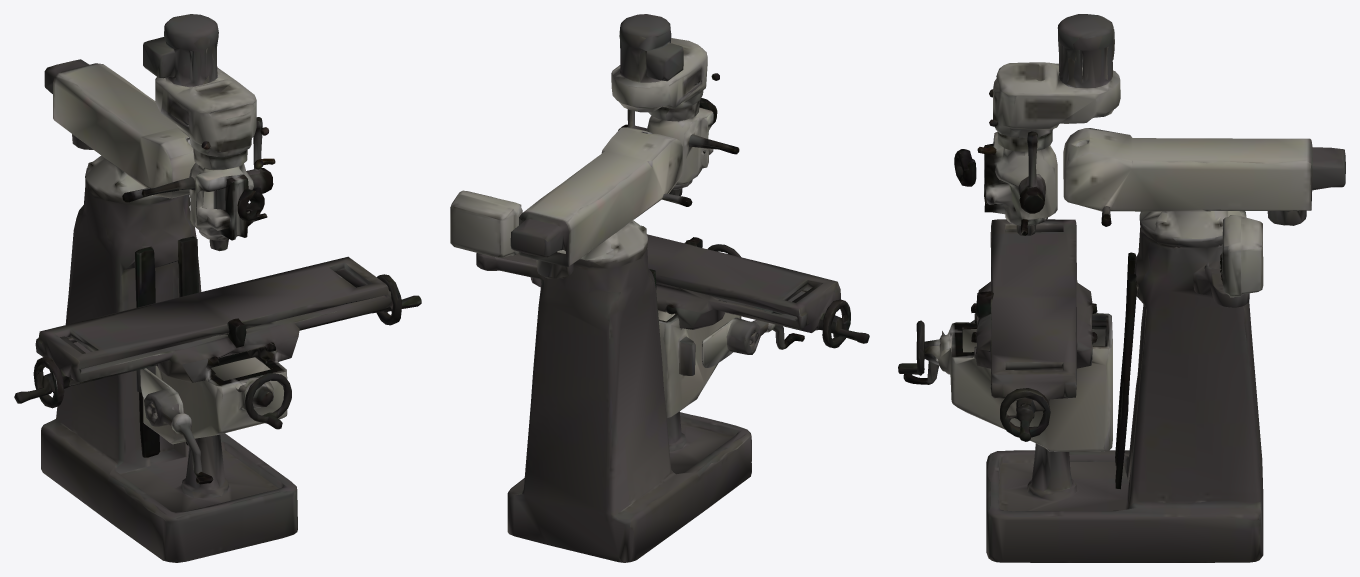
File: milling_machine.glb
The picture shows the model from 3 angles, left to right: view 1: azimuth 30°, elevation 25°; view 2: azimuth 150°, elevation 25°; view 3: azimuth 270°, elevation 25°; orthographic projection. The views are drawn at different scales.
Parts seen in each view (by area): view 1: geometry_0; view 2: geometry_0; view 3: geometry_0.
Part boxes in pixels (bbox=[...]): geometry_0: bbox=[14, 14, 421, 562]; geometry_0: bbox=[450, 14, 869, 562]; geometry_0: bbox=[898, 14, 1345, 562].
Bounding box in the file's own units: 0.861 × 1 × 0.8021.
1 material, 1 textured.
